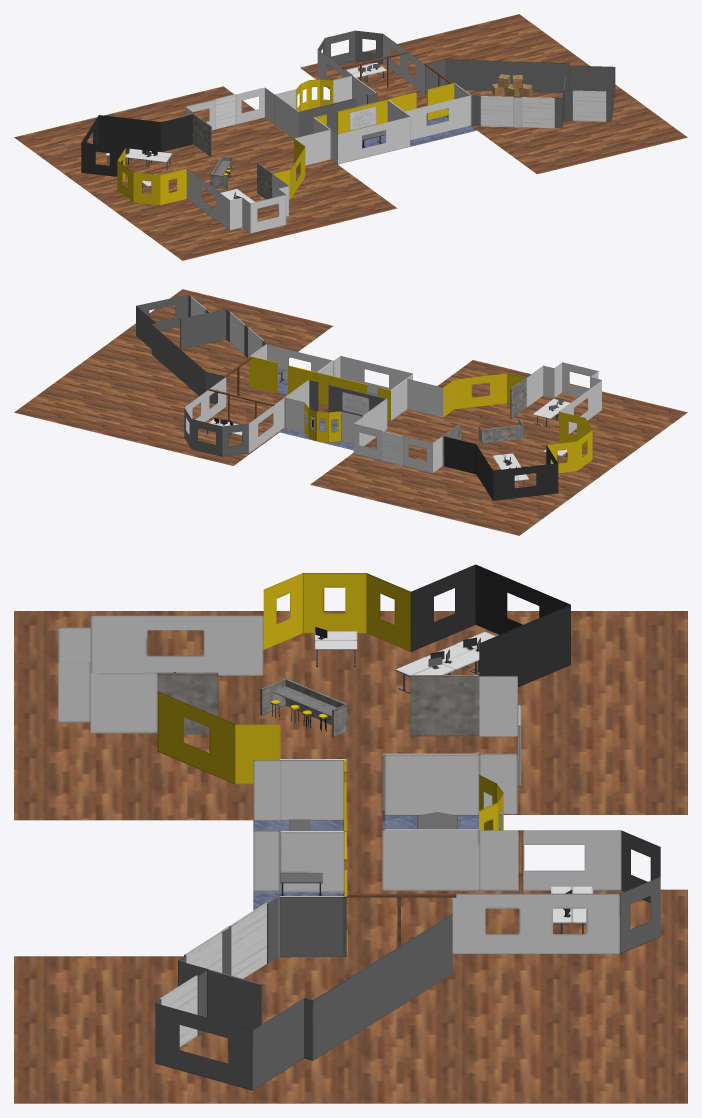
The picture shows the model from 3 angles, top to bottom: view 1: azimuth 30°, elevation 25°; view 2: azimuth 150°, elevation 25°; view 3: azimuth 270°, elevation 25°; orthographic projection. The views are drawn at different scales.
Parts seen in each view (by area): view 1: Plane.002_Plane.001; view 2: Plane.002_Plane.001; view 3: Plane.002_Plane.001.
Boxes of the visible parts, bbox=[...] form: Plane.002_Plane.001: bbox=[14, 14, 687, 260]; Plane.002_Plane.001: bbox=[14, 289, 687, 535]; Plane.002_Plane.001: bbox=[14, 564, 687, 1103].
Size of the model in its own units: 44.01 by 2.51 by 25.45.
1 material, 1 textured.
